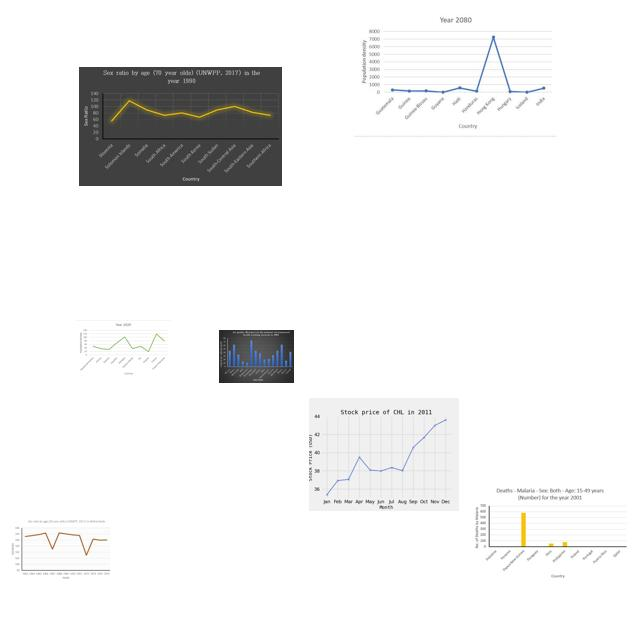Graph: (354, 11, 557, 137), (79, 67, 282, 186), (309, 398, 459, 511), (472, 486, 629, 580), (9, 519, 112, 581), (76, 320, 171, 378), (219, 330, 294, 383)
